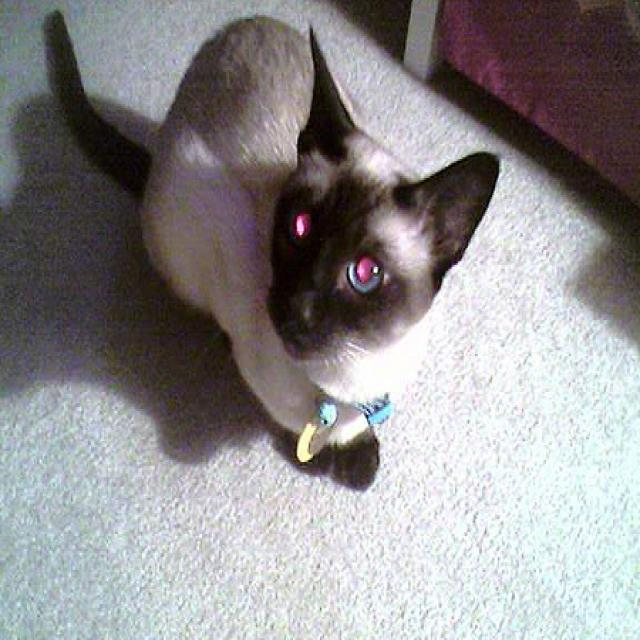Siamese: (37, 2, 503, 494)
